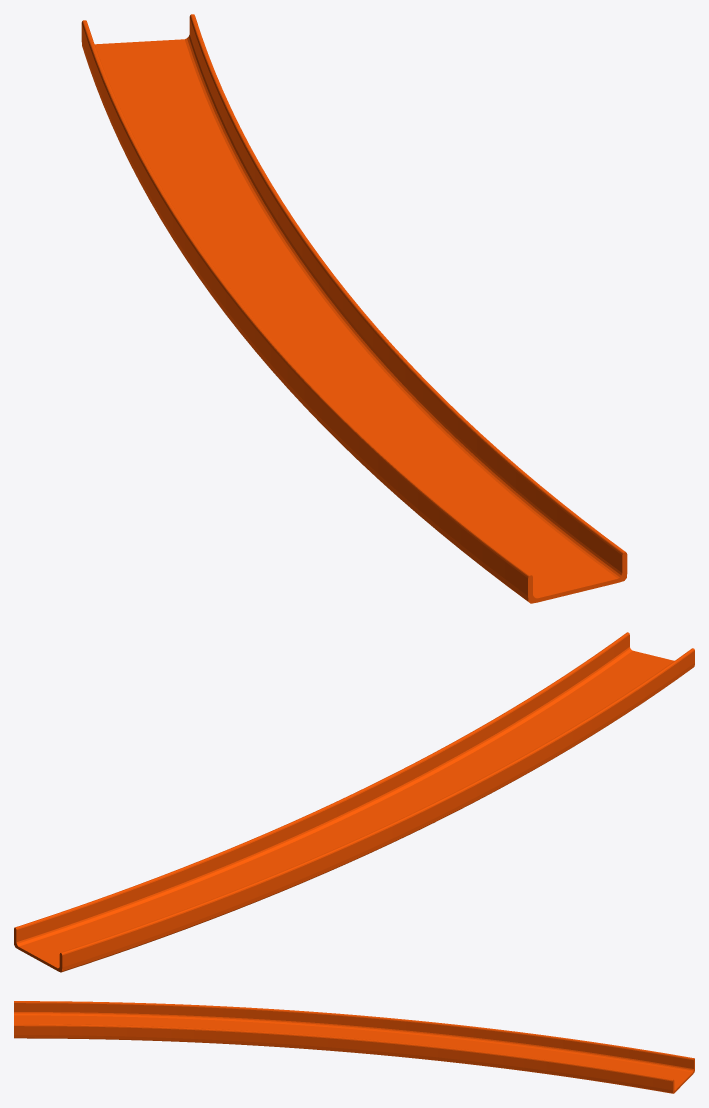
The model's file is Curva media 22,5.FBX.
3 renders of one model, top to bottom at view 1: azimuth 30°, elevation 25°; view 2: azimuth 150°, elevation 25°; view 3: azimuth 270°, elevation 25°, orthographic. The views are drawn at different scales.
Visible parts, largest first — view 1: Curva média 22.5; view 2: Curva média 22.5; view 3: Curva média 22.5.
Part boxes in pixels (box(x1,y1,x2,y2)): Curva média 22.5: box(81, 14, 627, 603); Curva média 22.5: box(14, 632, 694, 972); Curva média 22.5: box(14, 1001, 694, 1093).
Bounding box in the file's own units: 822 × 69.33 × 2971.
